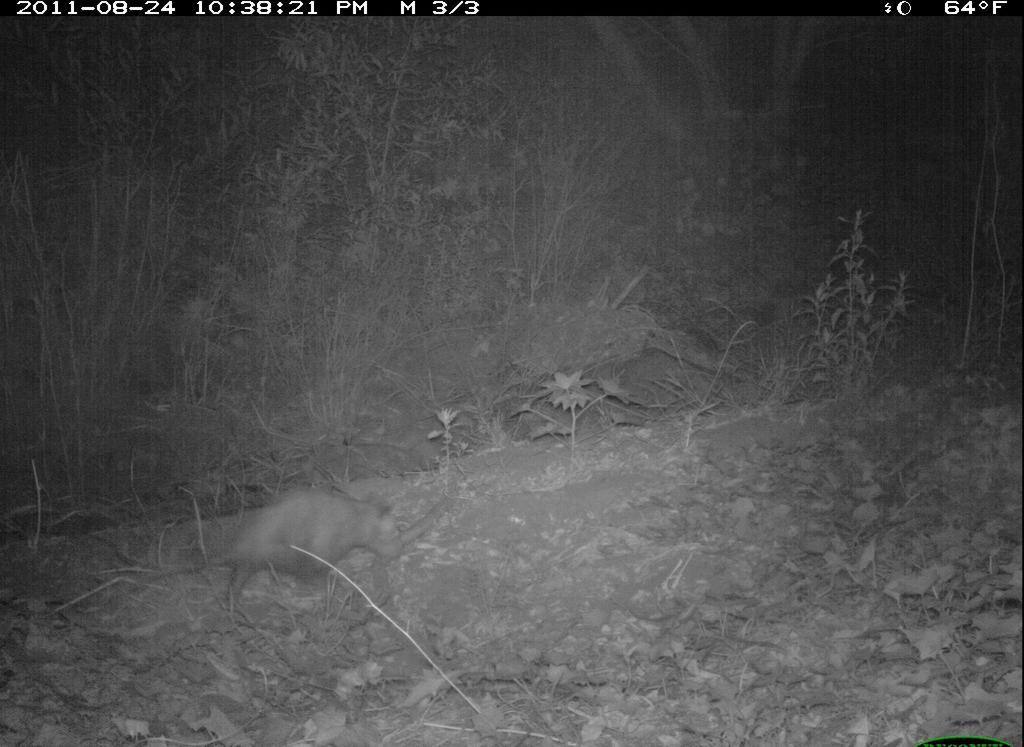opossum: (116, 481, 413, 621)
